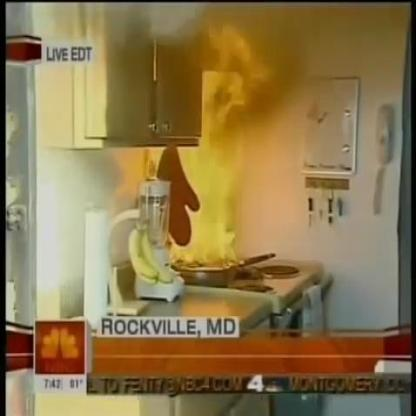fire: (160, 26, 266, 270)
